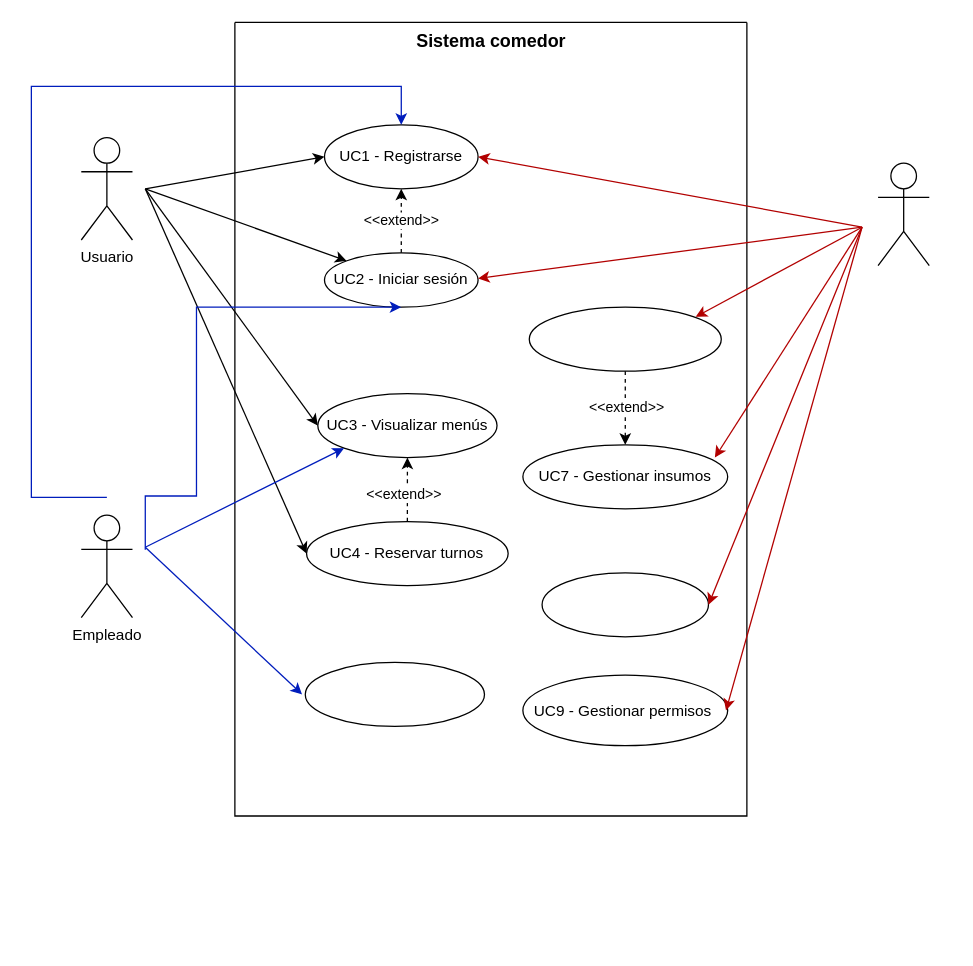
The diagram is 973 pixels wide and 966 high, and some of its shapes have lost their labels. The centre of each missing label's shape, as x and y in pixels:
Administrador: the point at 903,214
UC5 - Gestionar menús: the point at 624,604
UC6 - Gestionar turnos: the point at 394,693
UC8 - Generar reporte: the point at 624,338
